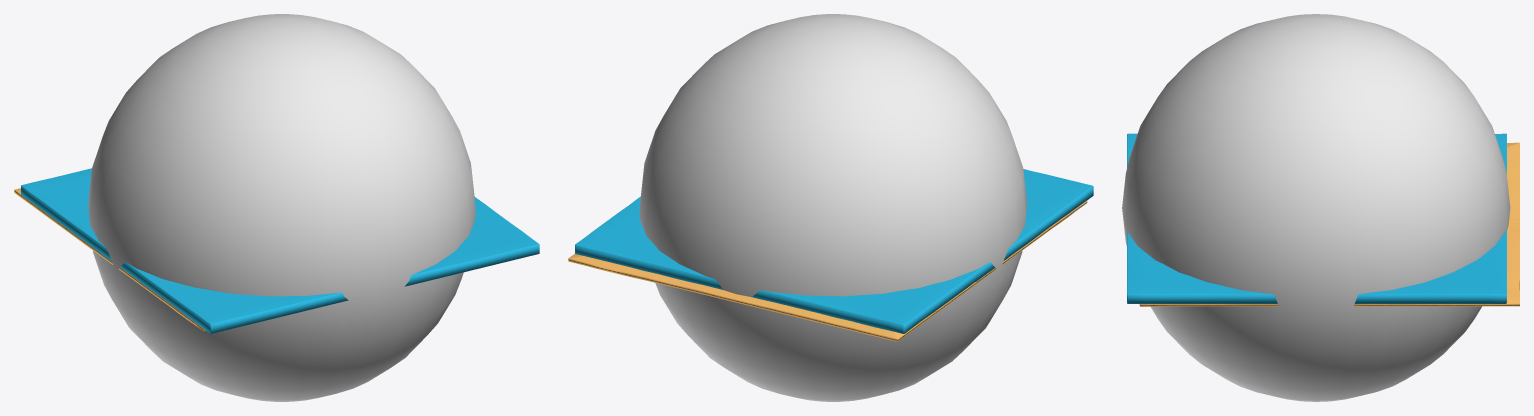
File: treasure chest.dae
3 renders of one model, left to right at view 1: azimuth 30°, elevation 25°; view 2: azimuth 150°, elevation 25°; view 3: azimuth 270°, elevation 25°, orthographic.
Visible parts, largest first — view 1: Sky, water, Sand; view 2: Sky, water, Sand; view 3: Sky, water, Sand.
Part boxes in pixels (x1,y1,x2,y2): Sky: (88, 14, 475, 401); water: (21, 168, 539, 333); Sand: (14, 188, 206, 331); Sky: (639, 14, 1026, 401); water: (575, 169, 1093, 333); Sand: (568, 200, 1087, 341); Sky: (1122, 14, 1510, 401); water: (1127, 133, 1506, 303); Sand: (1139, 142, 1519, 306).
Bounding box in the file's own units: 43.32 × 44.38 × 43.32.
